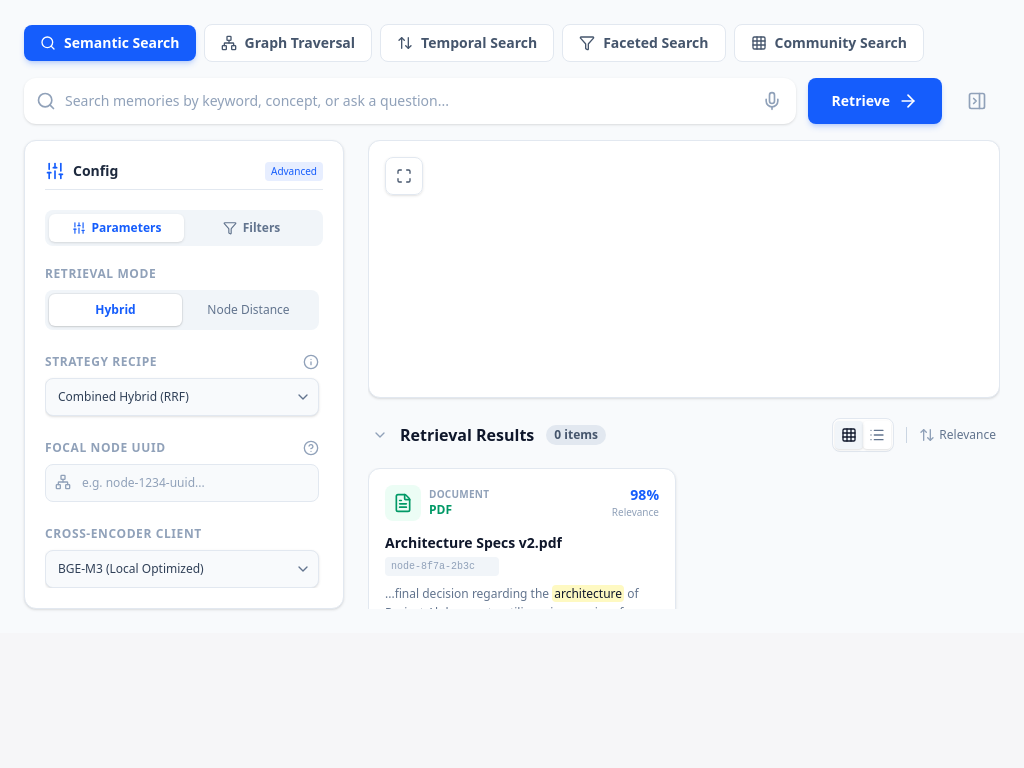
Test case: EnhancedSearch › Search Mode Buttons › switches to Temporal Search mode
The width and height of the screenshot is (1024, 768).
Click the button "Temporal Search": click(467, 43) [380,24,554,62]
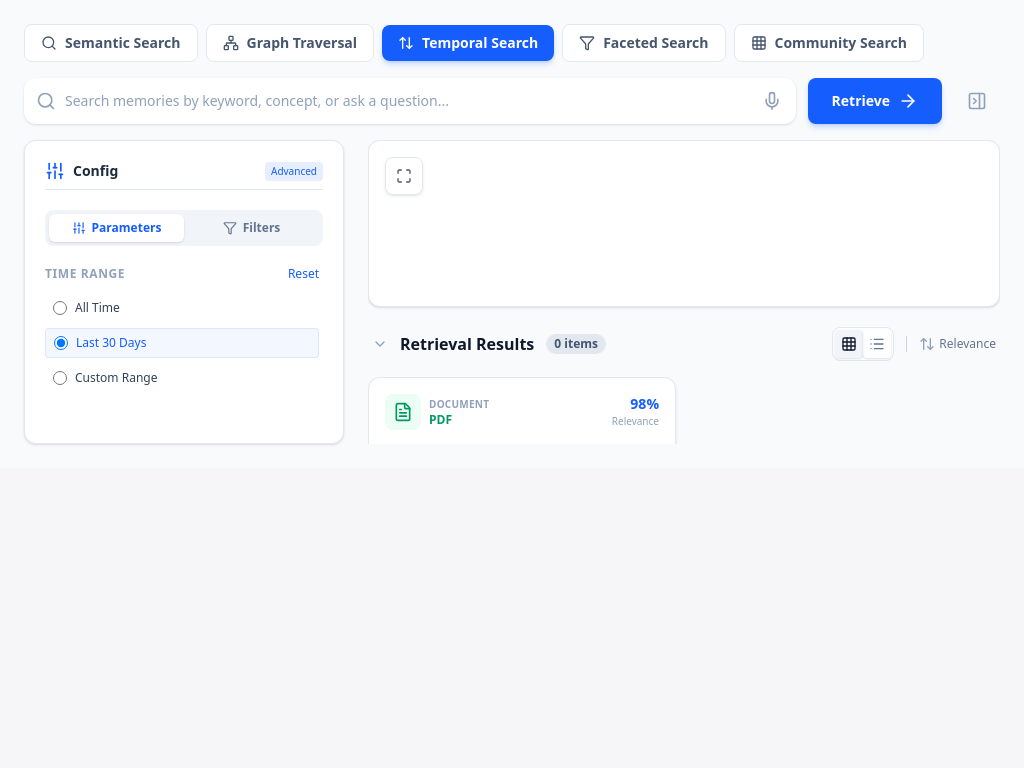
Expected: the heading "Time Range" is shown, [45,266,125,282]
